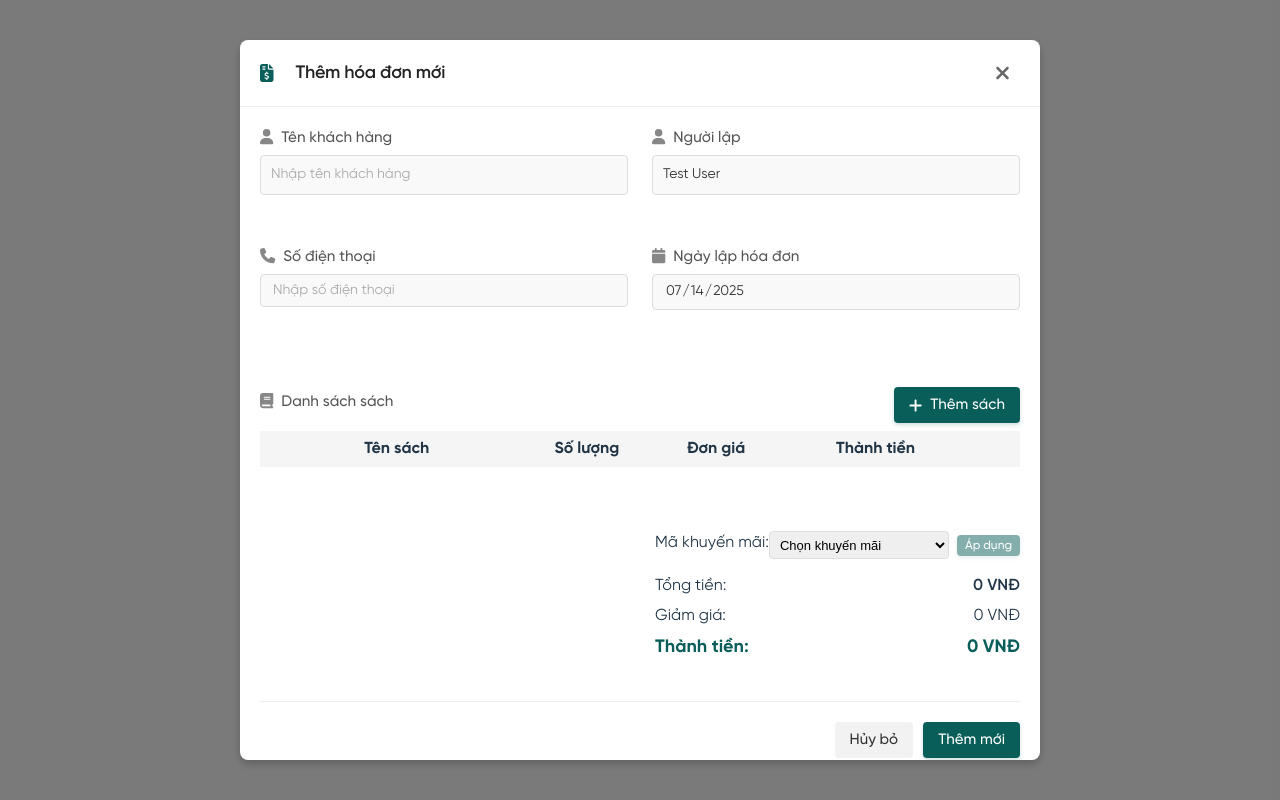
InvoiceForm › shows error if submit without customer info
Click the button "Thêm mới".
click(972, 740)  # box [923,722,1020,758]
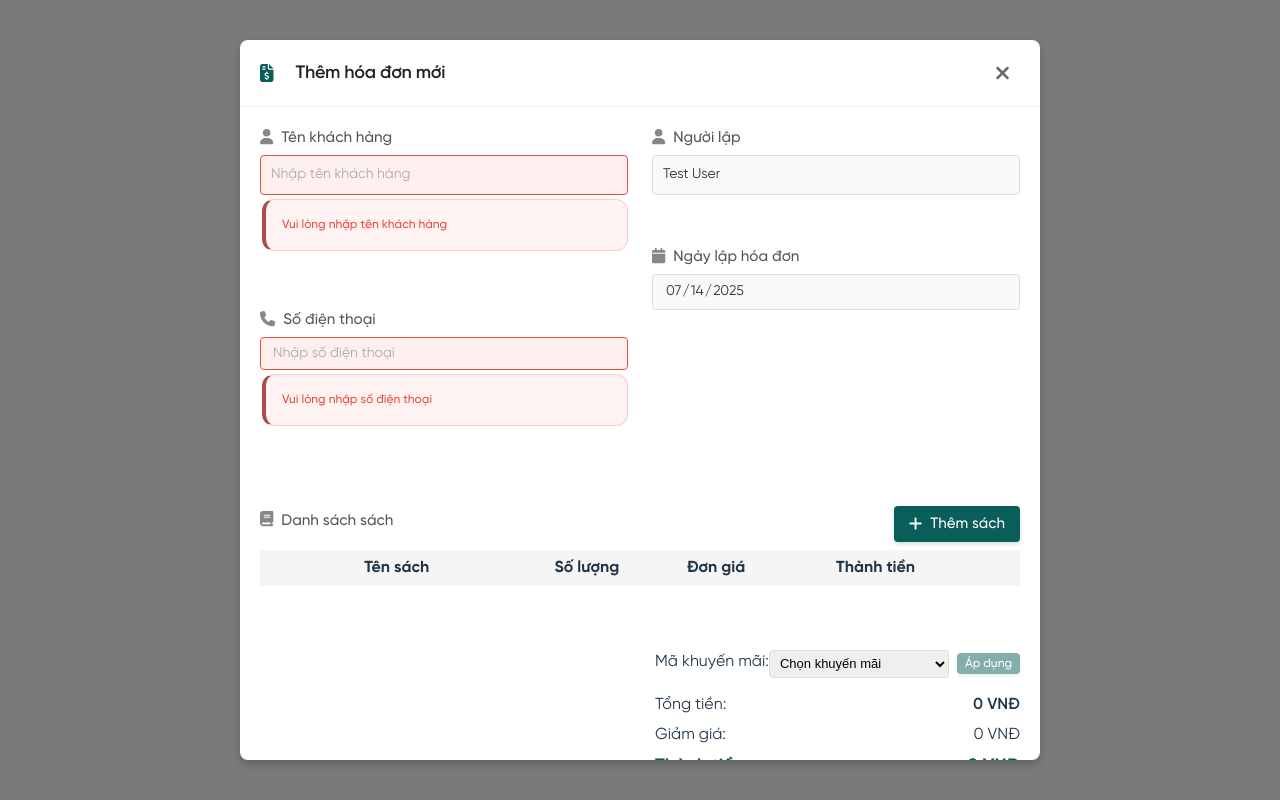
Expected: the text "Vui lòng nhập tên khách hàng" is shown, [262,199,628,251]
Expected: the text "Vui lòng nhập số điện thoại" is shown, [262,374,628,426]
